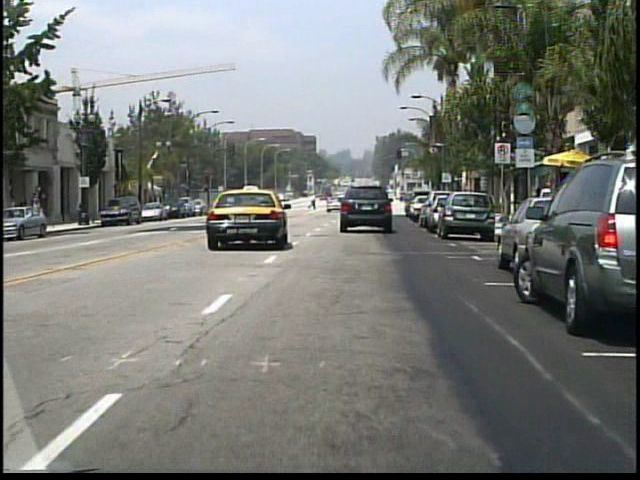person: (33, 195, 46, 227), (306, 192, 317, 212), (311, 191, 320, 211)
